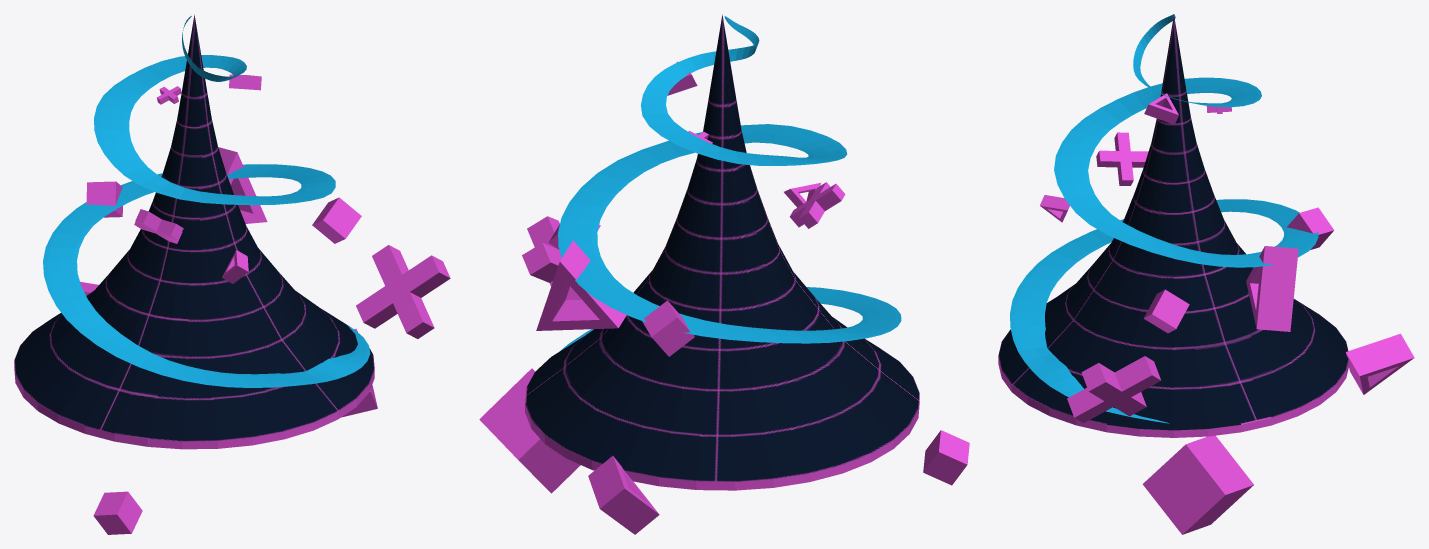
The model's file is teleport_game.gltf.
3 views of the same model, side by side, from view 1: azimuth 30°, elevation 25°; view 2: azimuth 150°, elevation 25°; view 3: azimuth 270°, elevation 25° (orthographic). The views are drawn at different scales.
Visible parts, largest first — view 1: Cylinder, Plane, Cube.005, Cube.001, Cube.002, Plane.003, Cube, Cube.004, Plane.002; view 2: Cylinder, Plane, Cube.003, Plane.003, Plane.001, Cube.005, Cube.001, Cube, Cube.004; view 3: Cylinder, Plane, Cube.003, Cube.005, Plane.003, Plane.001, Cube.004, Cube.002, Cube, Plane.004, Plane.002.
Boxes of the visible parts, box(x1,y1,x2,y2) form: Cylinder: box(14, 14, 374, 449); Plane: box(43, 16, 370, 387); Cube.005: box(356, 245, 450, 338); Cube.001: box(93, 491, 142, 534); Cube.002: box(312, 197, 361, 243); Plane.003: box(218, 147, 267, 223); Cube: box(86, 181, 122, 217); Cube.004: box(134, 209, 183, 243); Plane.002: box(222, 250, 248, 283); Cylinder: box(525, 14, 919, 490); Plane: box(558, 16, 901, 350); Cube.003: box(479, 368, 580, 493); Plane.003: box(536, 240, 626, 330); Plane.001: box(588, 456, 659, 534); Cube.005: box(522, 216, 581, 300); Cube.001: box(923, 430, 969, 485); Cube: box(642, 300, 694, 356); Cube.004: box(789, 182, 845, 228); Cylinder: box(998, 15, 1349, 437); Plane: box(1010, 14, 1318, 423); Cube.003: box(1142, 435, 1253, 534); Cube.005: box(1067, 356, 1160, 423); Plane.003: box(1246, 246, 1298, 331); Plane.001: box(1346, 333, 1414, 394); Cube.004: box(1096, 132, 1148, 185); Cube.002: box(1143, 289, 1189, 333); Cube: box(1287, 207, 1334, 249); Plane.004: box(1144, 93, 1178, 124); Plane.002: box(1040, 195, 1069, 222).
Bounding box in the file's own units: 2.4 × 2.8 × 2.37.
3 materials, 1 textured.
